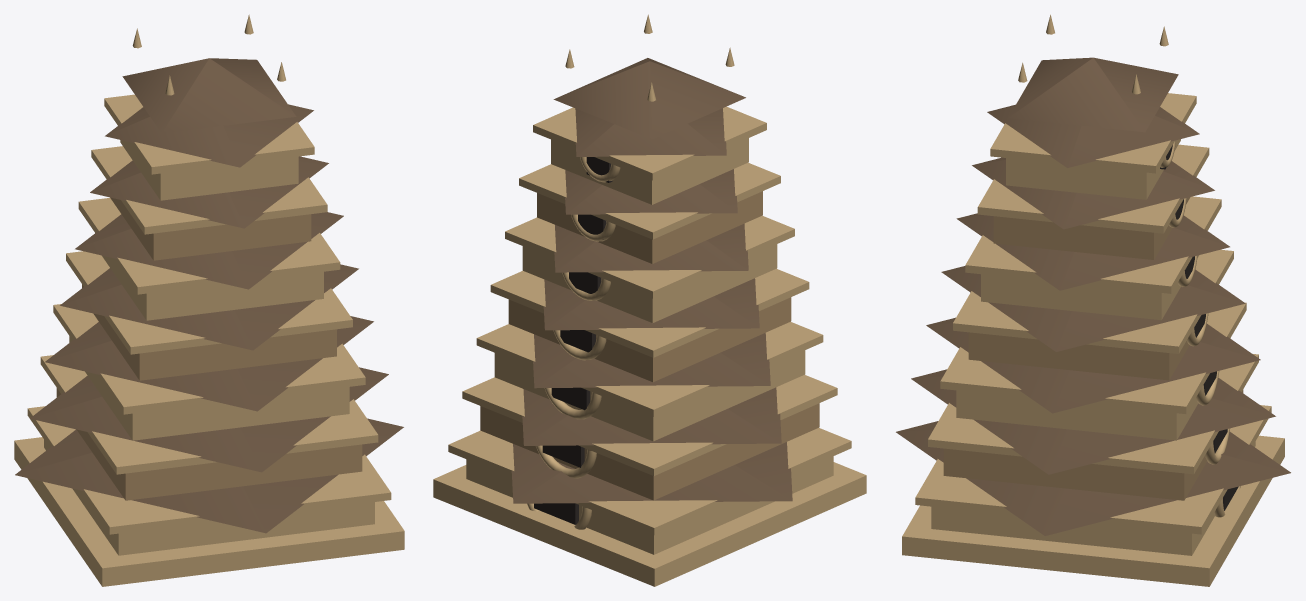
The picture shows the model from 3 angles, left to right: view 1: azimuth 30°, elevation 25°; view 2: azimuth 150°, elevation 25°; view 3: azimuth 270°, elevation 25°; orthographic projection. The views are drawn at different scales.
Parts seen in each view (by area): view 1: Roof_Eave (×8), Floor_Body (×7), Eave_Band (×7), Foundation_Platform; view 2: Roof_Eave (×8), Floor_Body (×7), Eave_Band (×7), Foundation_Platform, Door_Reveal (×4), Arched_Door_Frame (×3); view 3: Roof_Eave (×8), Floor_Body (×7), Eave_Band (×7), Foundation_Platform.
Boxes of the visible parts, x1,y1,x2,y2 form: Roof_Eave (×8): [15, 58, 403, 533]; Floor_Body (×7): [44, 140, 374, 555]; Eave_Band (×7): [27, 94, 391, 534]; Foundation_Platform: [14, 437, 404, 586]; Roof_Eave (×8): [511, 58, 792, 503]; Floor_Body (×7): [466, 138, 833, 554]; Eave_Band (×7): [448, 106, 851, 535]; Foundation_Platform: [433, 462, 866, 586]; Door_Reveal (×4): [534, 330, 595, 524]; Arched_Door_Frame (×3): [536, 330, 606, 478]; Roof_Eave (×8): [896, 57, 1290, 535]; Floor_Body (×7): [931, 139, 1255, 555]; Eave_Band (×7): [915, 93, 1271, 534]; Foundation_Platform: [902, 435, 1284, 586].
Bounding box in the file's own units: 5.76 × 7.41 × 5.76.
